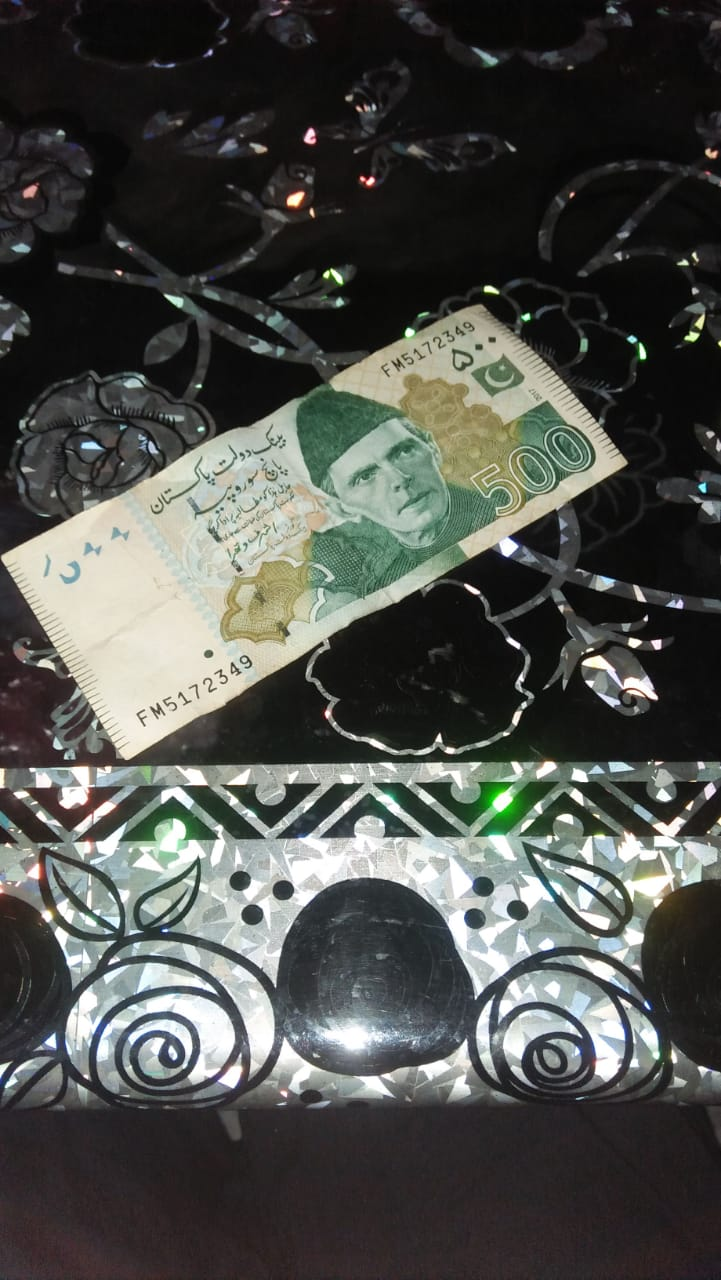500 rupee: (26, 275, 625, 801)
